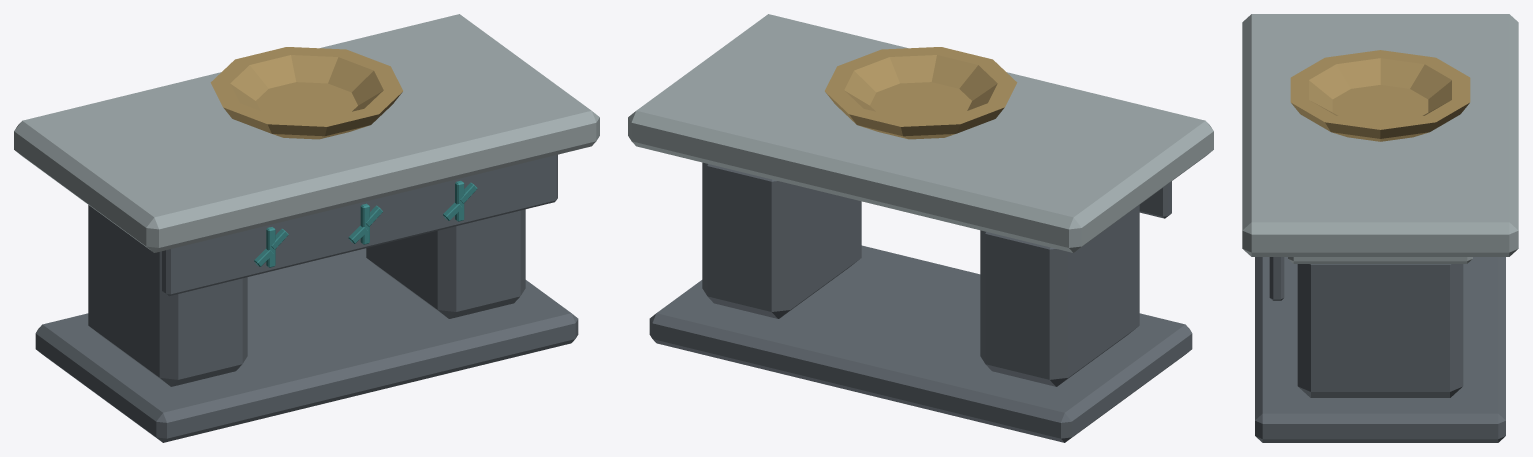
The model's file is 07_Ritual_Altar.glb.
3 views of the same model, side by side, from view 1: azimuth 30°, elevation 25°; view 2: azimuth 150°, elevation 25°; view 3: azimuth 270°, elevation 25° (orthographic). The views are drawn at different scales.
Visible parts, largest first — view 1: 07_Ritual_Altar__Body; view 2: 07_Ritual_Altar__Body; view 3: 07_Ritual_Altar__Body.
Boxes of the visible parts, x1=… form: 07_Ritual_Altar__Body: x1=14, y1=14, x2=599, y2=442; 07_Ritual_Altar__Body: x1=628, y1=14, x2=1213, y2=442; 07_Ritual_Altar__Body: x1=1242, y1=14, x2=1518, y2=442.
Bounding box in the file's own units: 3.46 × 1.91 × 1.87.
1 material, 1 textured.
